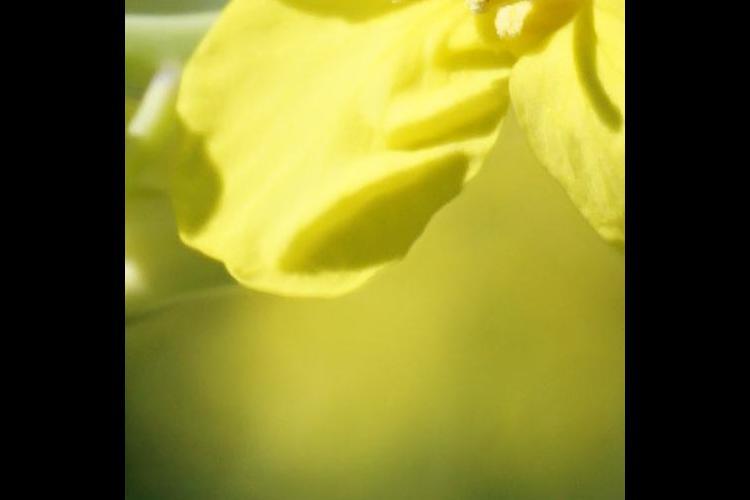yellow: (180, 1, 626, 317)
